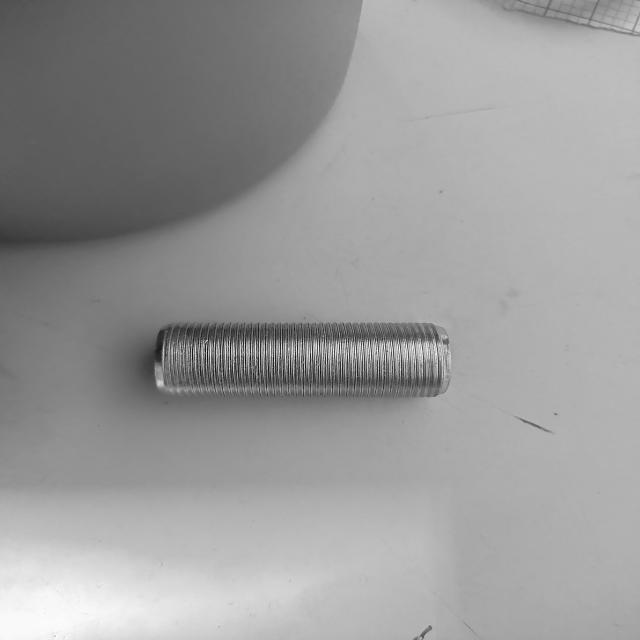Broken: (154, 320, 454, 400)
